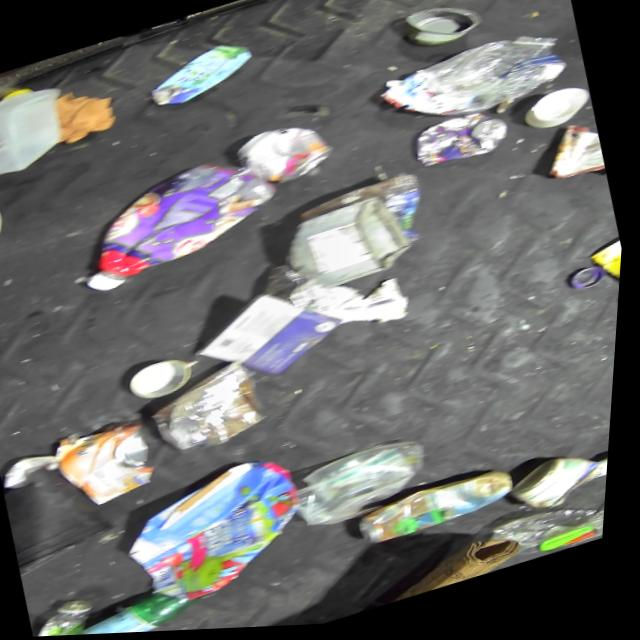can: (59, 414, 171, 514), (226, 112, 342, 200), (407, 105, 518, 179), (506, 449, 612, 525), (394, 0, 486, 61), (126, 350, 206, 408)
milk_jug: (0, 74, 84, 185), (0, 191, 37, 311)
non_white_jug: (62, 143, 295, 299)
plastic_bottle: (34, 594, 121, 638)
